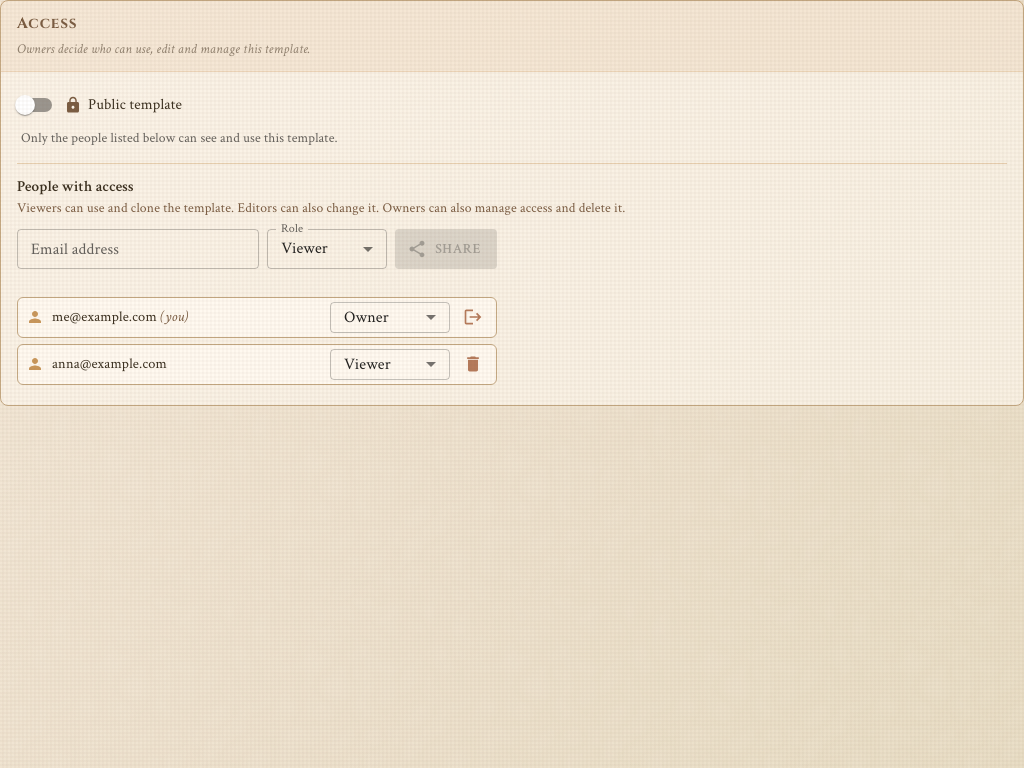
Test case: an unknown address keeps the typed email and says so
This screenshot has width=1024, height=768.
Type "nikt@example.com" into the field labelled "Email address". click: (138, 249)
box: [17,229,259,269]
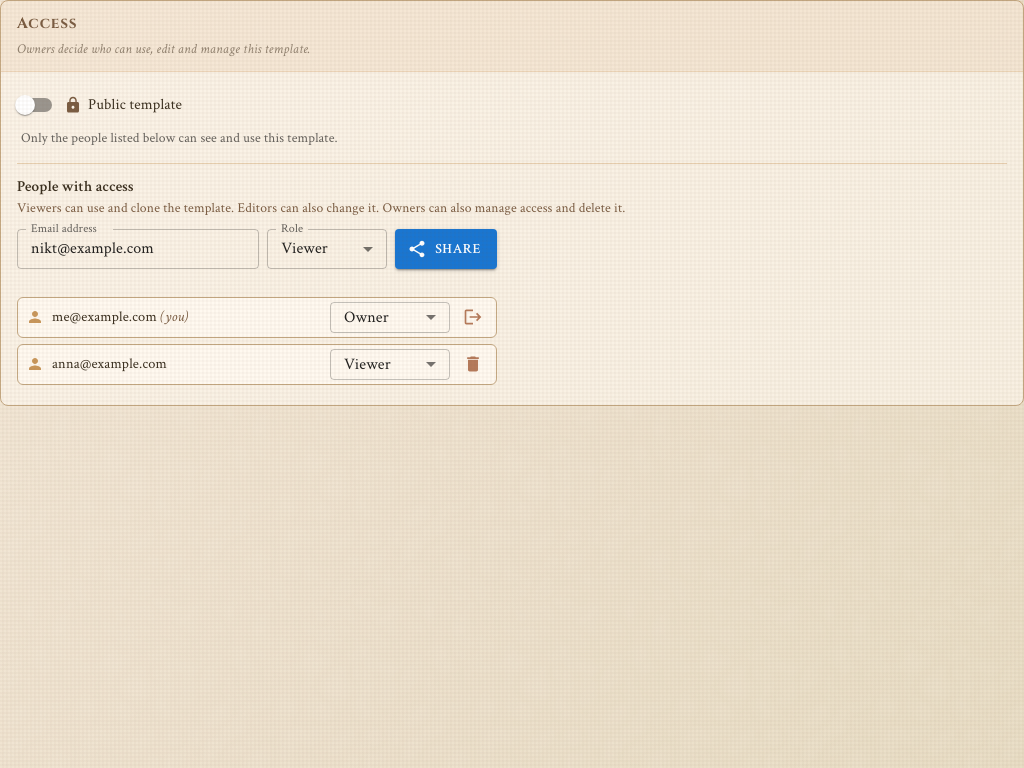
Click the button "Share". click: (446, 249)
box: [395,229,497,269]
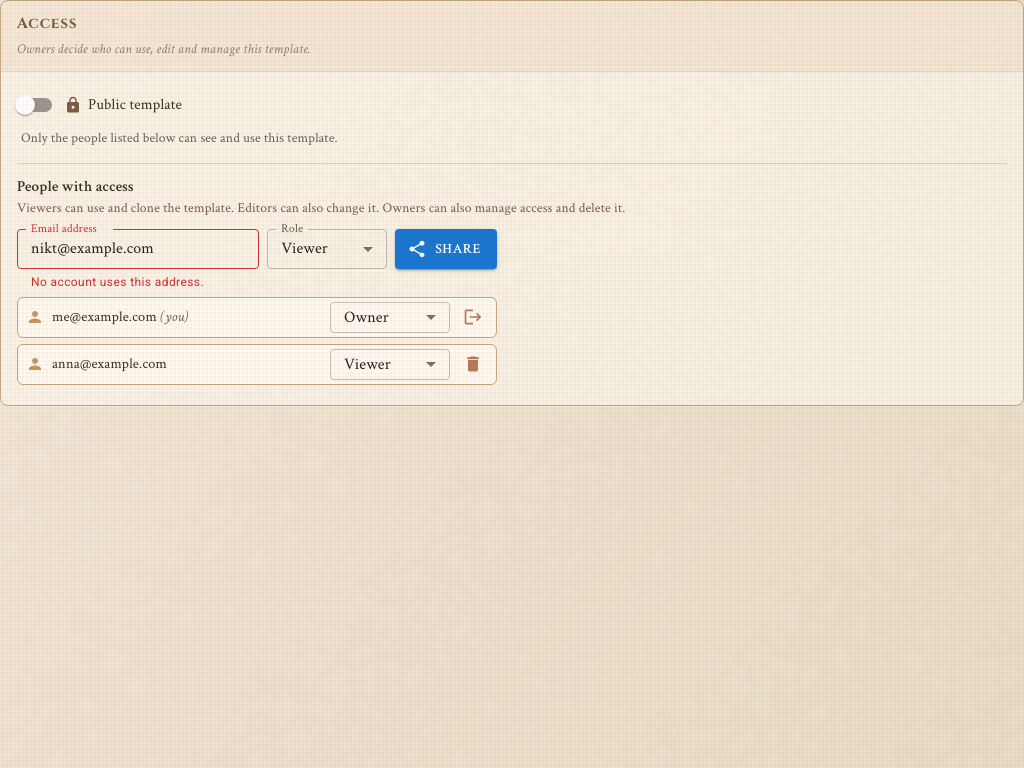
Expected: the text "No account uses this address." is shown, [31,275,204,289]
